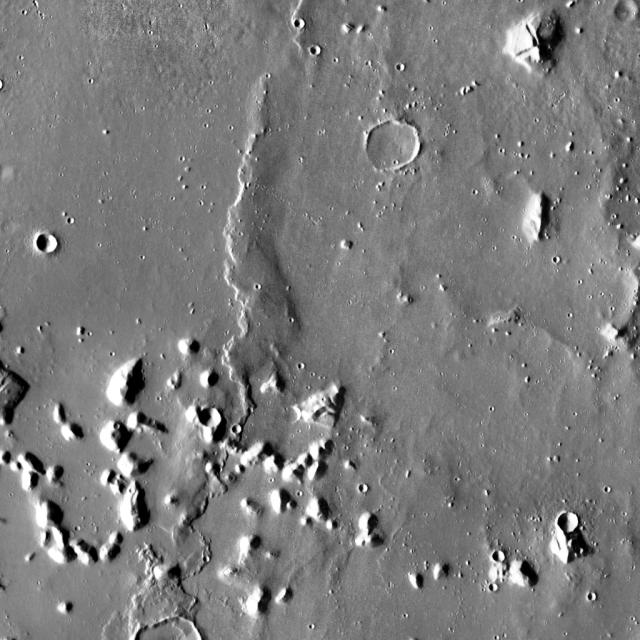crater: (50, 472, 133, 550), (367, 122, 417, 168), (558, 512, 582, 534), (616, 1, 640, 23), (202, 407, 223, 427), (39, 232, 59, 250), (288, 404, 304, 420), (493, 551, 505, 562), (312, 45, 322, 55), (296, 18, 306, 28), (234, 423, 244, 432), (489, 583, 499, 592), (590, 594, 598, 602), (398, 63, 406, 71), (359, 484, 366, 492), (552, 257, 560, 264), (204, 556, 211, 562)
